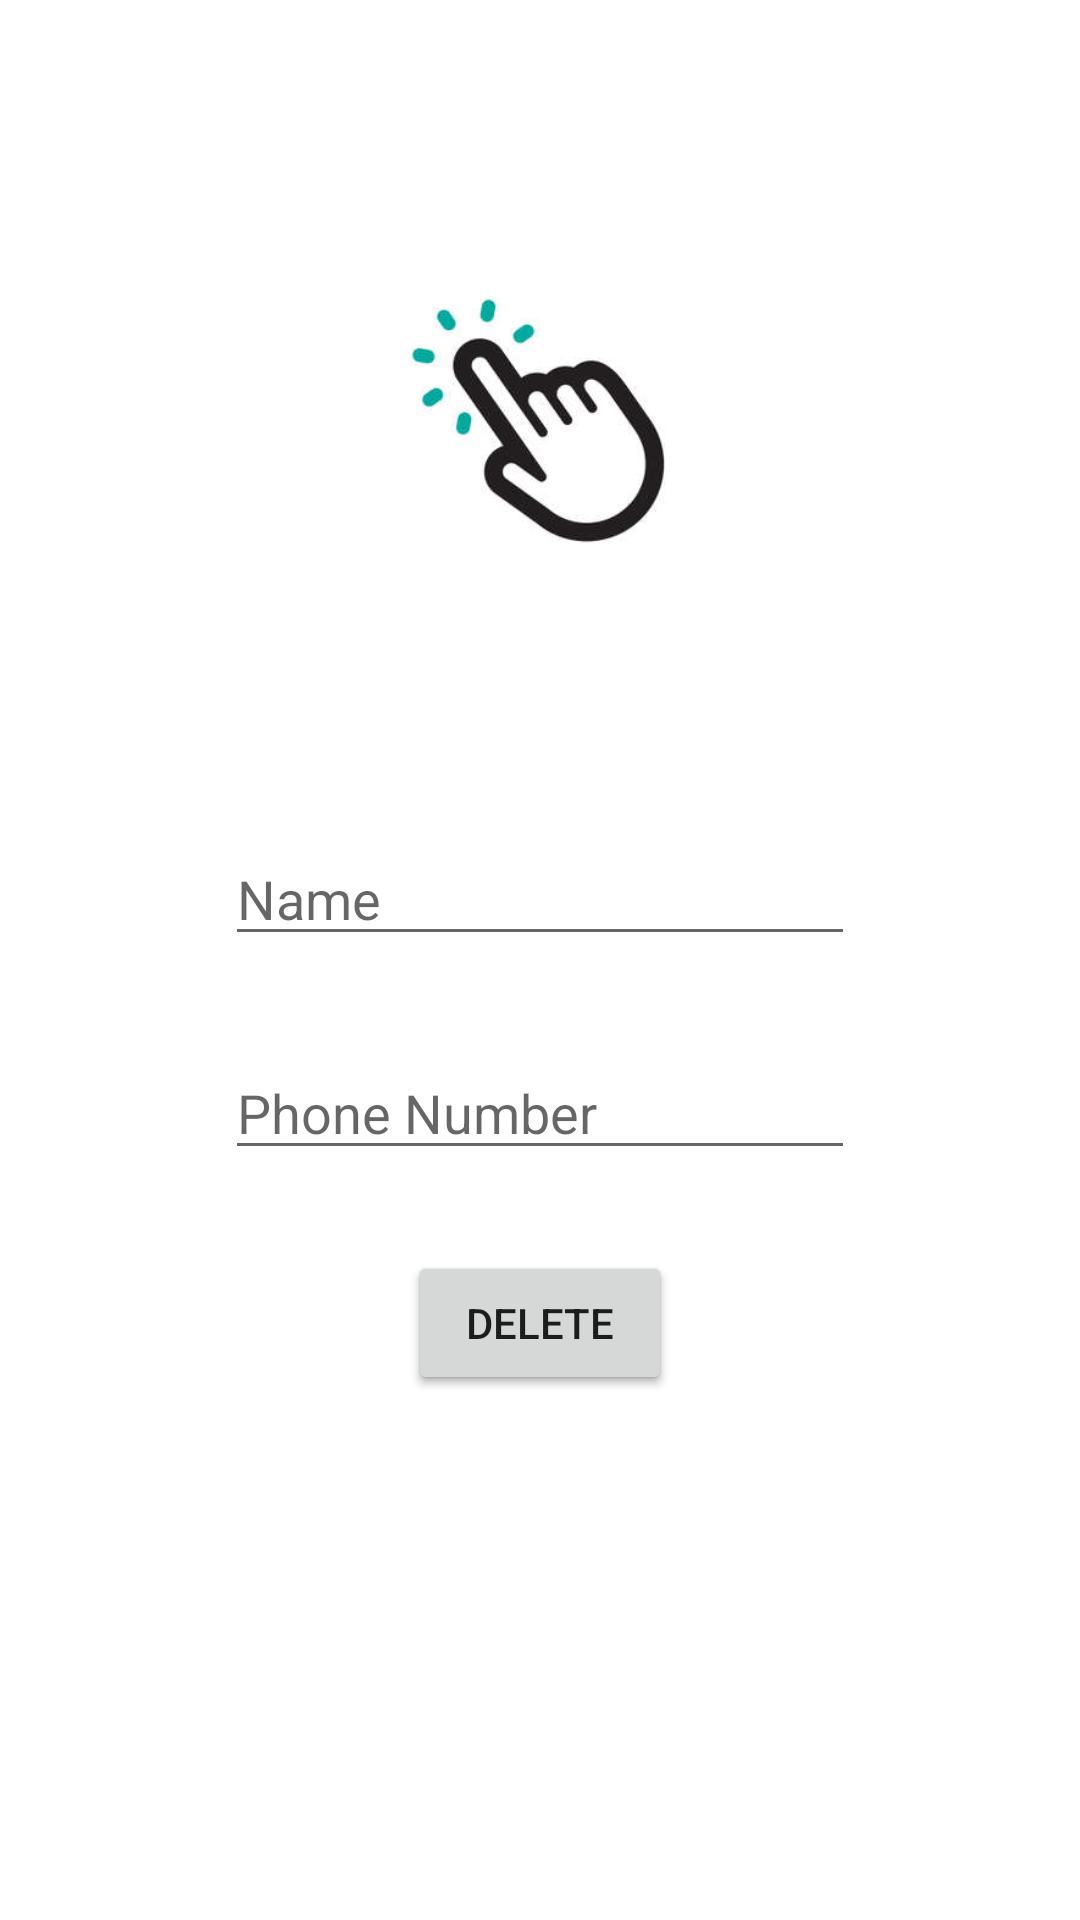

Icons on this 1080×1920 Android screen, each with the point to tap as (x,y):
clickimage: (538,420)
